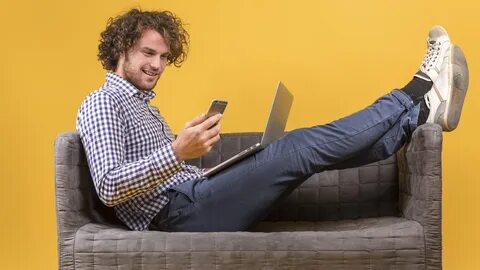awake: (73, 7, 470, 233)
